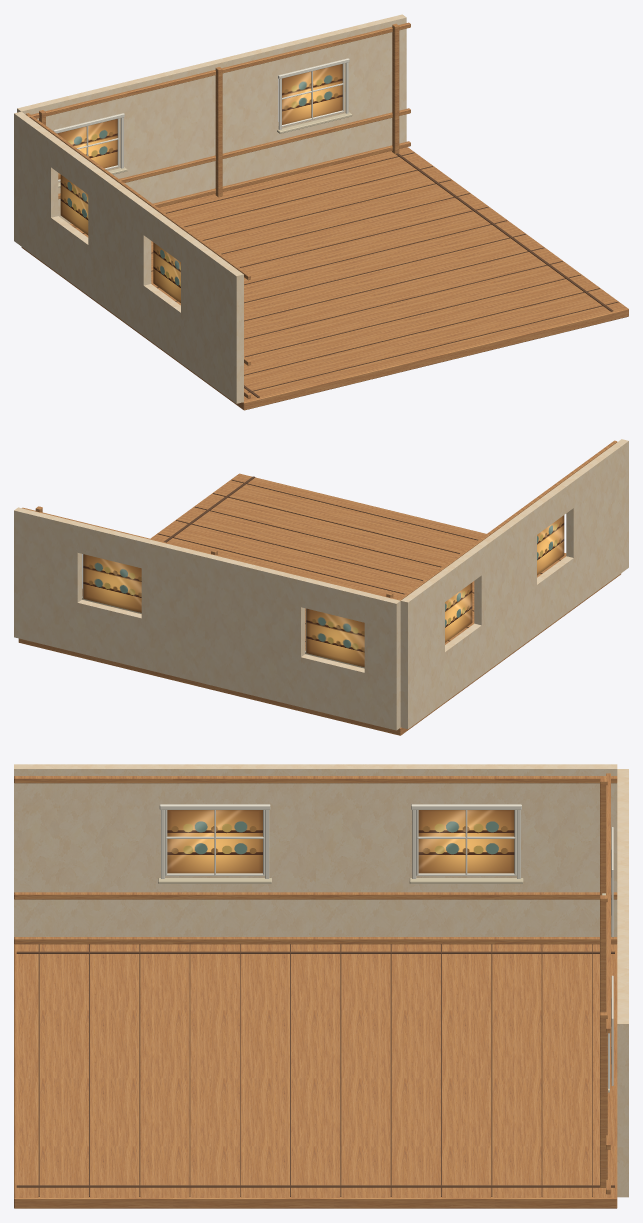
The picture shows the model from 3 angles, top to bottom: view 1: azimuth 30°, elevation 25°; view 2: azimuth 150°, elevation 25°; view 3: azimuth 270°, elevation 25°; orthographic projection. The views are drawn at different scales.
Visible parts, largest first — view 1: oak, Back shop wall, West shop wall, wood_dark, Shop rear window.001, white, Shop rear window, Shop side window.001, Shop side window; view 2: Back shop wall, West shop wall, oak, Shop rear window, Shop rear window.001, wood_dark, Shop side window, Shop side window.001; view 3: oak, West shop wall, wood_dark, Shop side window.001, Shop side window, white, Back shop wall, limestone.
Boxes of the visible parts, bbox=[...] form: oak: bbox=[21, 22, 628, 410]; Back shop wall: bbox=[17, 14, 406, 223]; West shop wall: bbox=[14, 111, 243, 403]; wood_dark: bbox=[82, 151, 618, 397]; Shop rear window.001: bbox=[282, 64, 342, 124]; white: bbox=[53, 58, 349, 181]; Shop rear window: bbox=[57, 119, 117, 179]; Shop side window.001: bbox=[60, 175, 88, 235]; Shop side window: bbox=[153, 242, 180, 302]; Back shop wall: bbox=[14, 507, 400, 730]; West shop wall: bbox=[400, 439, 628, 729]; oak: bbox=[18, 440, 621, 735]; Shop rear window: bbox=[306, 608, 364, 667]; Shop rear window.001: bbox=[83, 554, 141, 612]; wood_dark: bbox=[158, 476, 560, 641]; Shop side window: bbox=[537, 515, 564, 575]; Shop side window.001: bbox=[445, 582, 472, 642]; oak: bbox=[14, 773, 617, 1208]; West shop wall: bbox=[14, 764, 617, 936]; wood_dark: bbox=[16, 944, 614, 1196]; Shop side window.001: bbox=[418, 810, 514, 873]; Shop side window: bbox=[167, 810, 262, 873]; white: bbox=[159, 804, 613, 1088]; Back shop wall: bbox=[617, 769, 628, 1197]; limestone: bbox=[158, 878, 609, 1092].
Bounding box in the file's own units: 12.23 × 4.06 × 12.23.
Materials: 6 (3 with a texture image).
